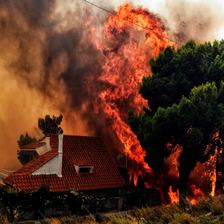fire: (93, 5, 215, 208)
